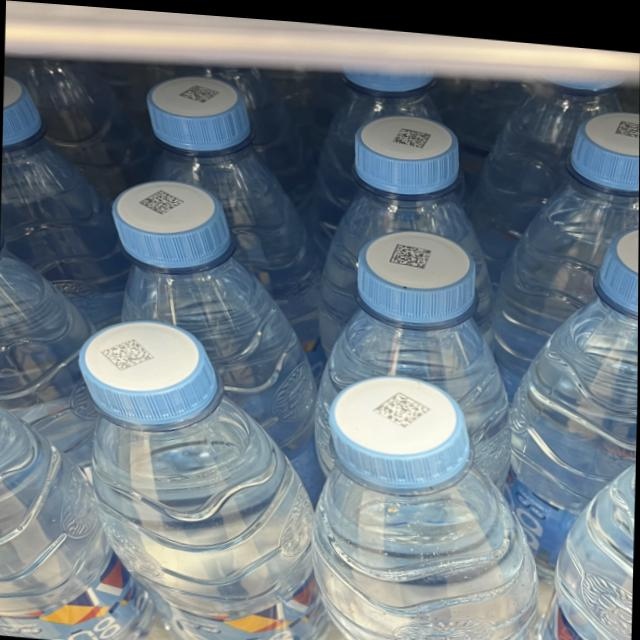datamatrix: (373, 384, 432, 424), (101, 335, 157, 371), (140, 186, 184, 214), (391, 238, 433, 263), (179, 81, 221, 102), (393, 121, 431, 143), (615, 111, 640, 129)
